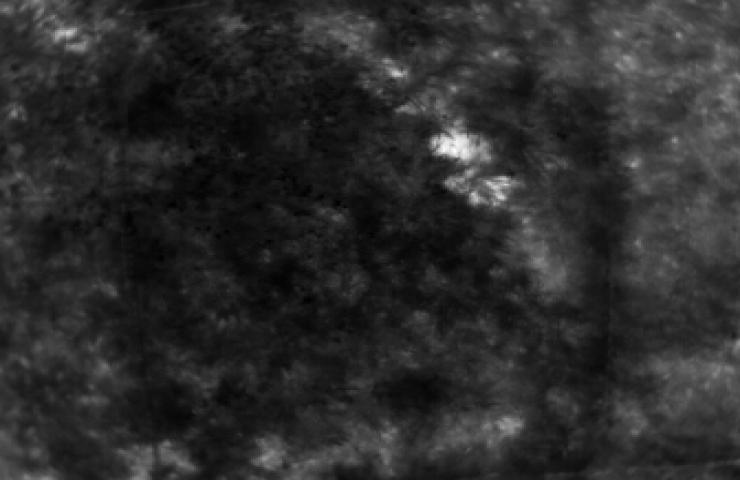landmines: (430, 121, 497, 167)
